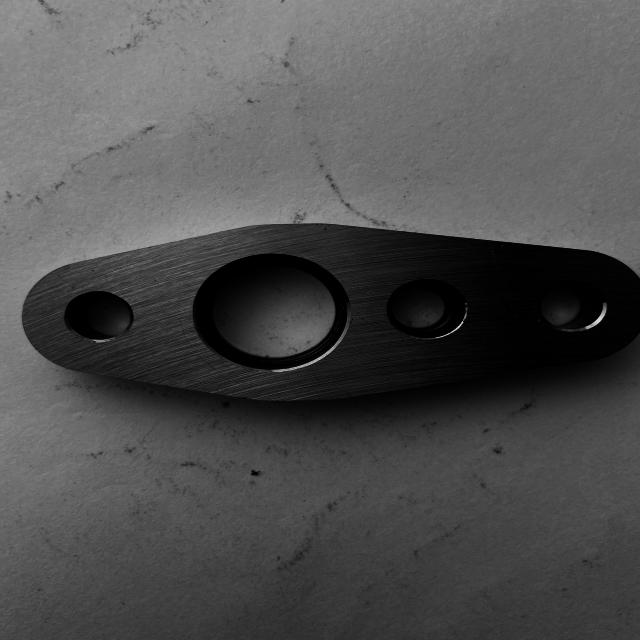lines: (486, 244, 518, 318), (175, 307, 192, 348), (215, 234, 233, 254), (196, 352, 216, 370)
